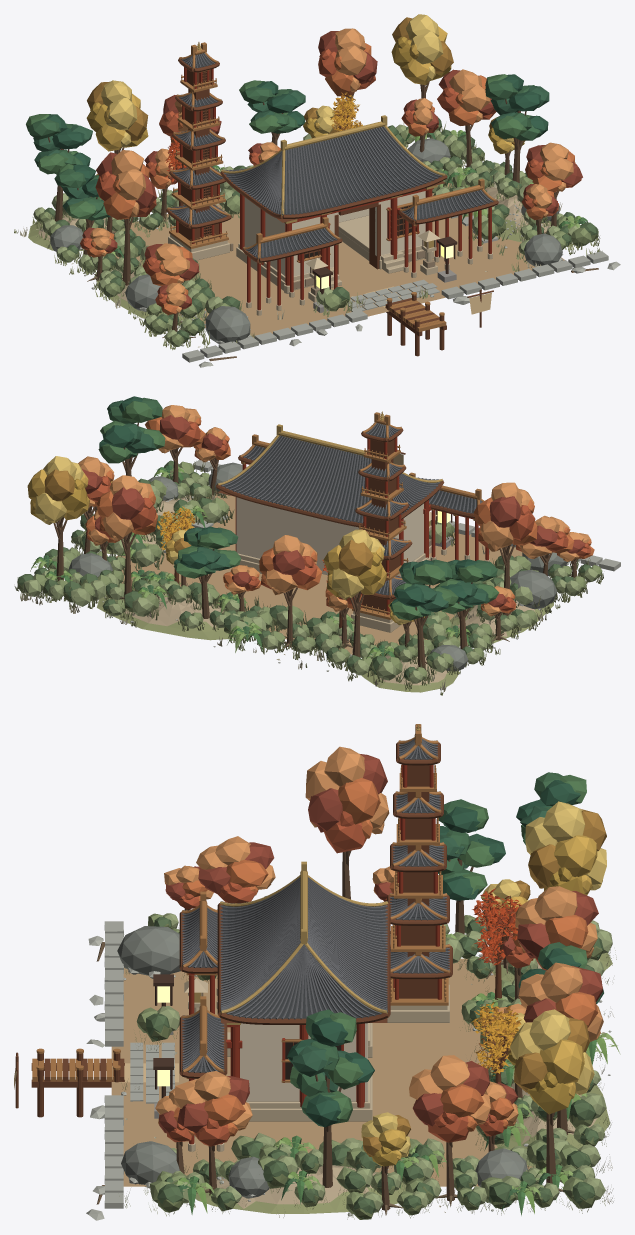
Rendered from heijokyo.glb.
3 renders of one model, top to bottom at view 1: azimuth 30°, elevation 25°; view 2: azimuth 150°, elevation 25°; view 3: azimuth 270°, elevation 25°, orthographic. The views are drawn at different scales.
Visible parts, largest first — view 1: heijokyo; view 2: heijokyo; view 3: heijokyo.
Boxes of the visible parts, bbox=[...] form: heijokyo: bbox=[14, 14, 620, 367]; heijokyo: bbox=[14, 396, 620, 695]; heijokyo: bbox=[14, 724, 620, 1220].
Bounding box in the file's own units: 7.92 × 3.93 × 6.75.
